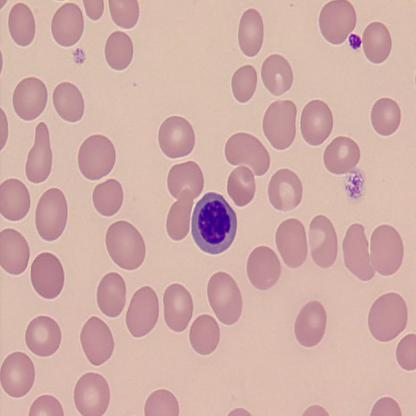NRC: (188, 190, 238, 255)
